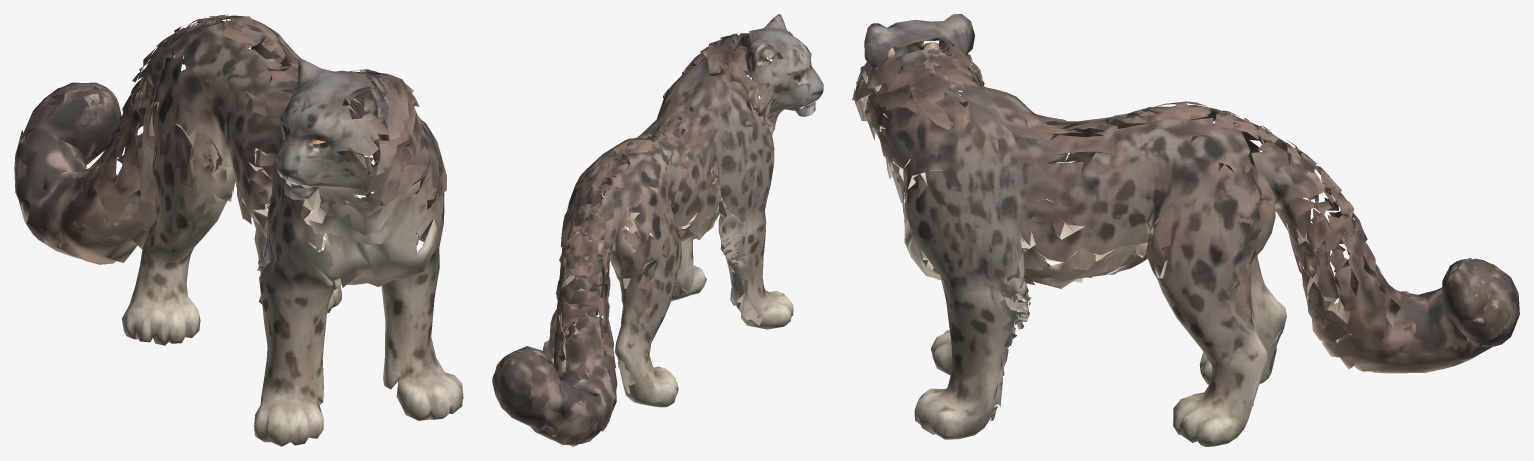
File: snow-leopard.glb
3 renders of one model, left to right at view 1: azimuth 30°, elevation 25°; view 2: azimuth 150°, elevation 25°; view 3: azimuth 270°, elevation 25°, orthographic. The views are drawn at different scales.
Visible parts, largest first — view 1: snow-leopard.raw; view 2: snow-leopard.raw; view 3: snow-leopard.raw.
Boxes of the visible parts, left/top/right/bottom form: snow-leopard.raw: left=14, top=14, right=463, bottom=446; snow-leopard.raw: left=492, top=14, right=823, bottom=446; snow-leopard.raw: left=852, top=14, right=1519, bottom=446.
Bounding box in the file's own units: 0.483 × 0.8 × 1.33.
1 material, 1 textured.
